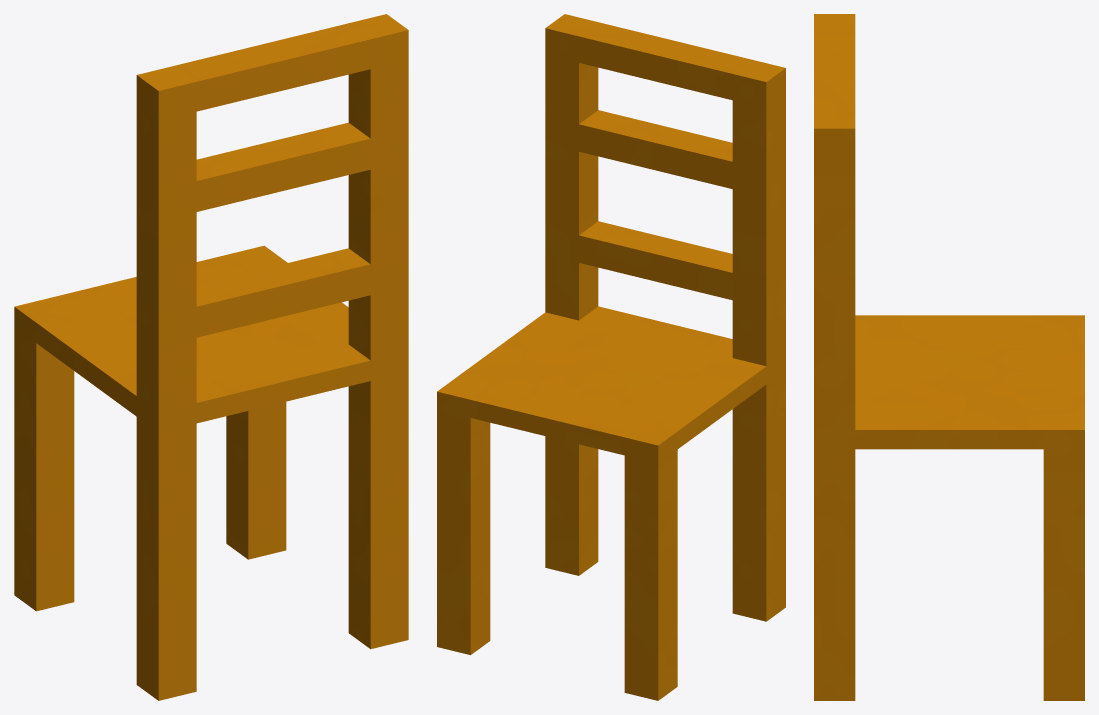
The model's file is Chair_2.fbx.
3 views of the same model, side by side, from view 1: azimuth 30°, elevation 25°; view 2: azimuth 150°, elevation 25°; view 3: azimuth 270°, elevation 25° (orthographic). The views are drawn at different scales.
Visible parts, largest first — view 1: Chair 2; view 2: Chair 2; view 3: Chair 2.
Part boxes in pixels (x1,y1,x2,y2): Chair 2: (14, 14, 408, 700); Chair 2: (437, 14, 785, 700); Chair 2: (814, 14, 1084, 700).
Bounding box in the file's own units: 52.89 × 123 × 52.89.
